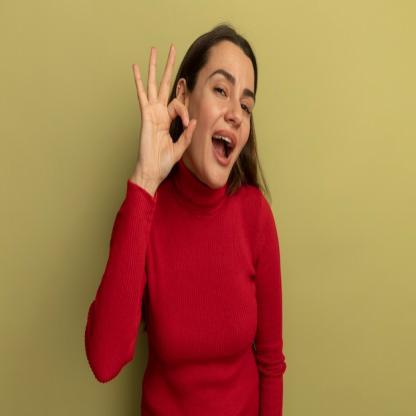ok: (127, 40, 200, 173)
